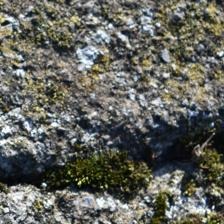Crack: (4, 54, 211, 149)
